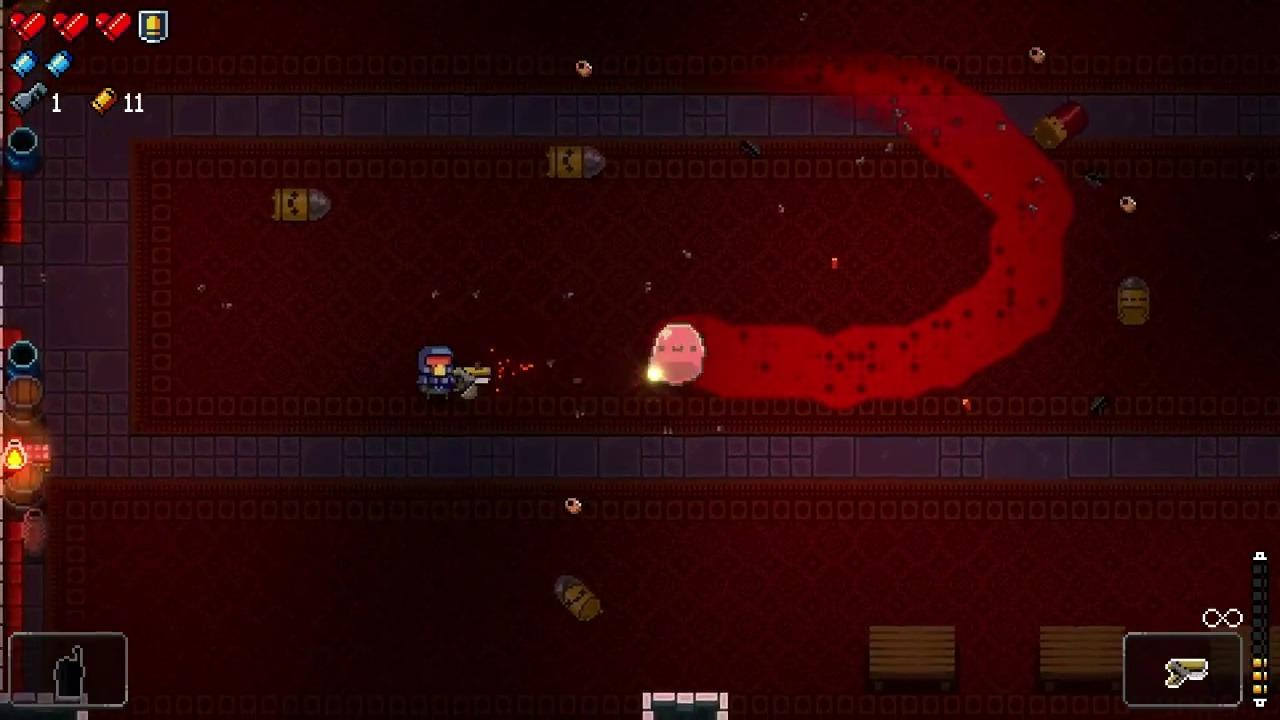blobulon_l: (650, 323, 707, 386)
dead_bullet_kin: (555, 574, 604, 622), (547, 145, 608, 179), (273, 188, 333, 222), (1117, 275, 1151, 327)
dead_red_shotgun_kin: (1033, 100, 1088, 150)
player: (418, 343, 455, 402)
table: (870, 626, 955, 692), (1040, 625, 1126, 690)
